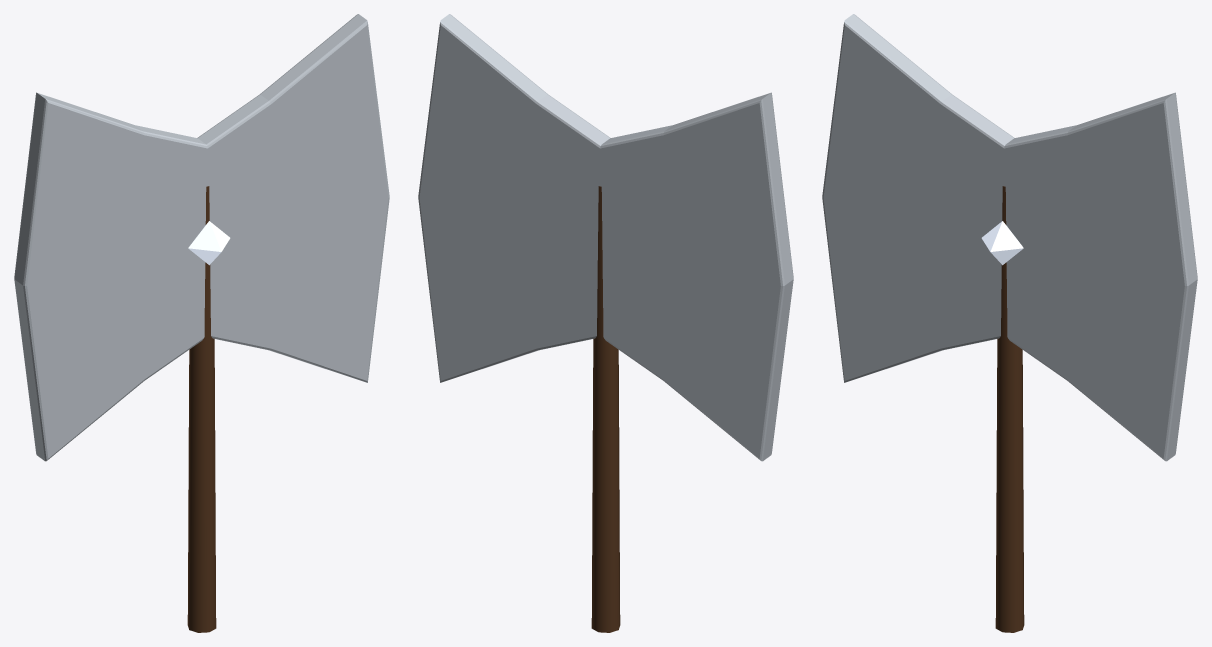
Rendered from axe_f3_518c9be9.glb.
3 renders of one model, left to right at view 1: azimuth 30°, elevation 25°; view 2: azimuth 150°, elevation 25°; view 3: azimuth 330°, elevation 25°, orthographic.
Visible parts, largest first — view 1: m5_ow80_, m0_ow80_, m4_; view 2: m5_ow80_, m0_ow80_; view 3: m5_ow80_, m0_ow80_, m4_.
Boxes of the visible parts, bbox=[...] form: m5_ow80_: bbox=[14, 14, 389, 461]; m0_ow80_: bbox=[187, 186, 216, 632]; m4_: bbox=[188, 221, 230, 265]; m5_ow80_: bbox=[418, 14, 793, 461]; m0_ow80_: bbox=[591, 186, 620, 632]; m5_ow80_: bbox=[822, 14, 1197, 461]; m0_ow80_: bbox=[995, 186, 1024, 632]; m4_: bbox=[981, 221, 1023, 265].
Size of the model in its own units: 1.72 by 2.57 by 0.22.
